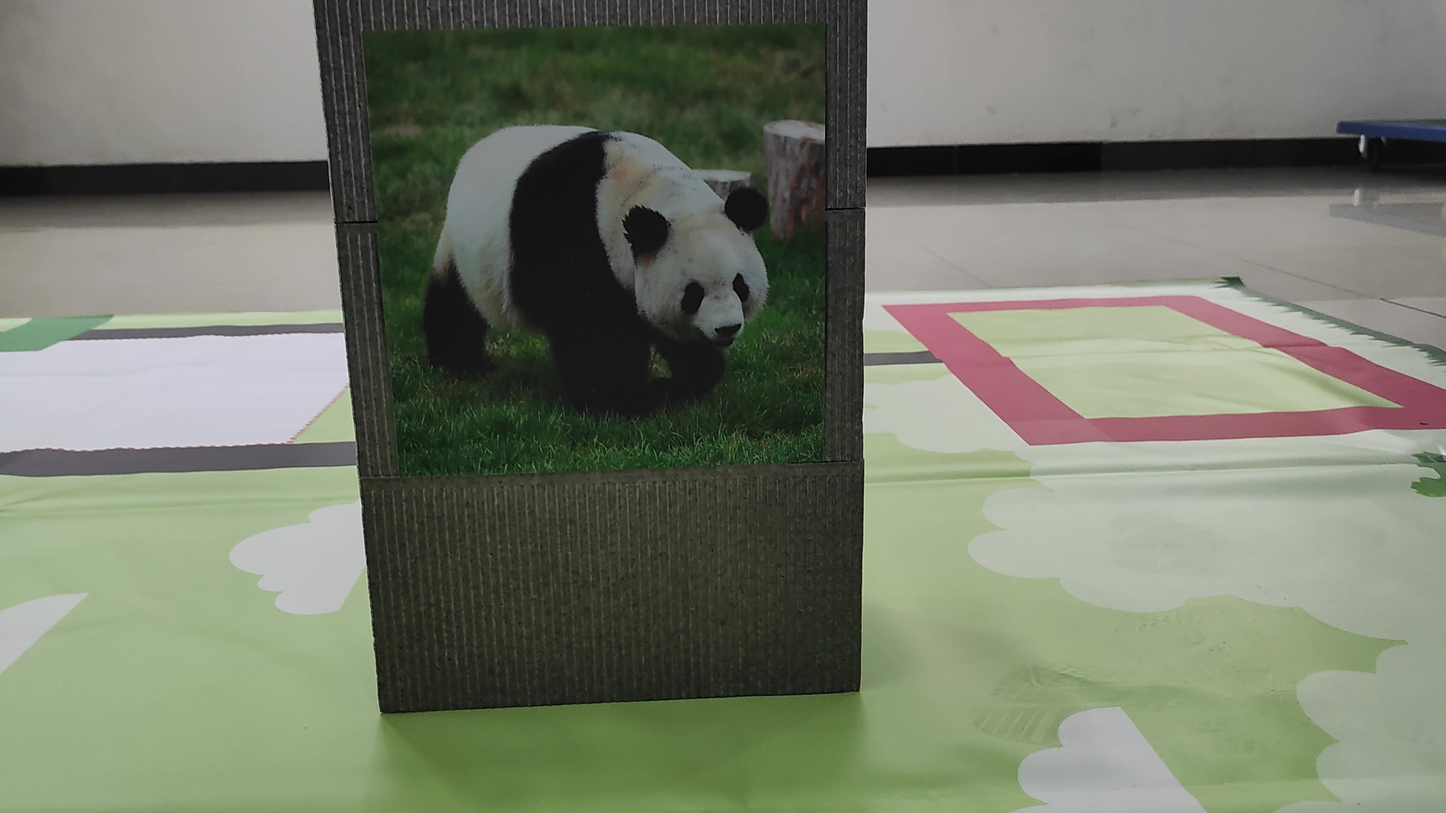panda: (424, 66, 789, 417)
